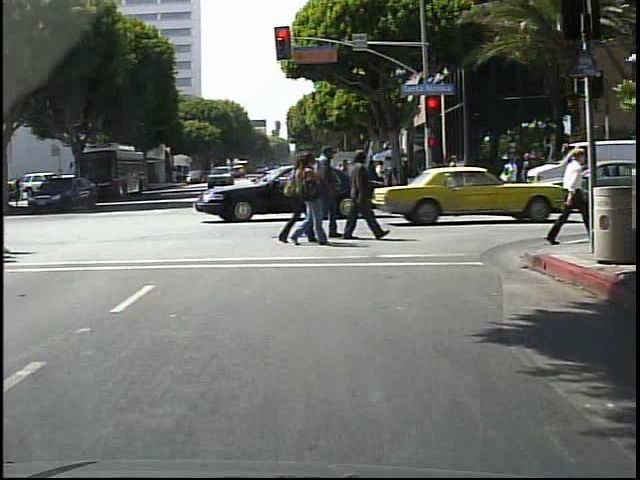person: (542, 141, 589, 248)
